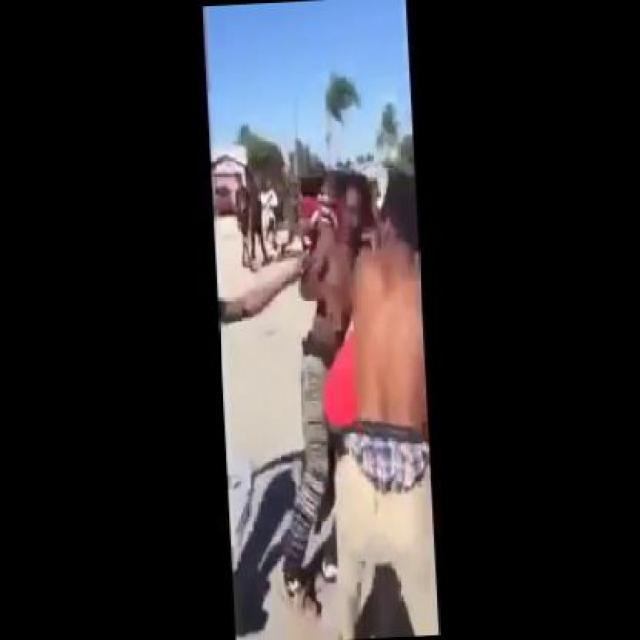fight: (290, 162, 428, 498)
